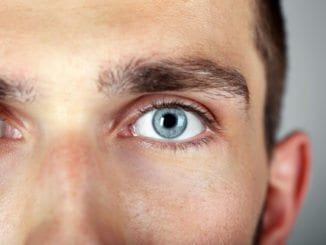iris: (152, 106, 187, 138)
pupil: (160, 113, 177, 129)
